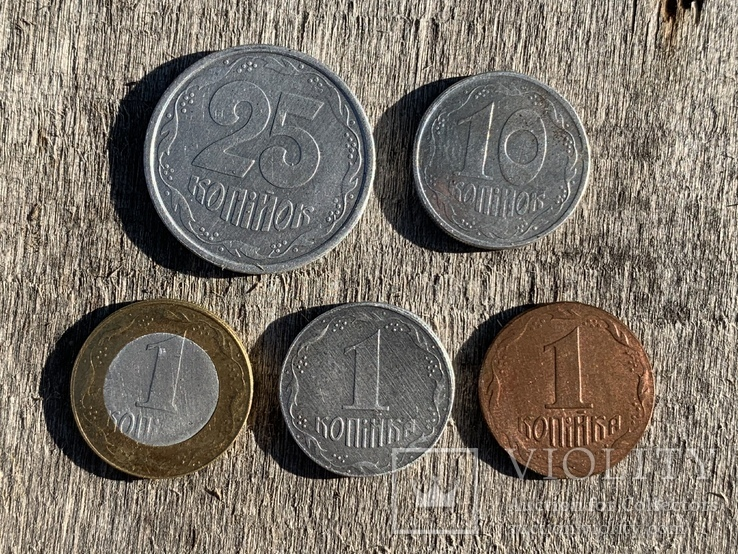coin_1: (279, 309, 456, 470), (70, 307, 247, 467)
coin_10: (413, 78, 584, 244)
coin_2: (478, 305, 648, 464)
coin_25: (157, 45, 370, 276)
